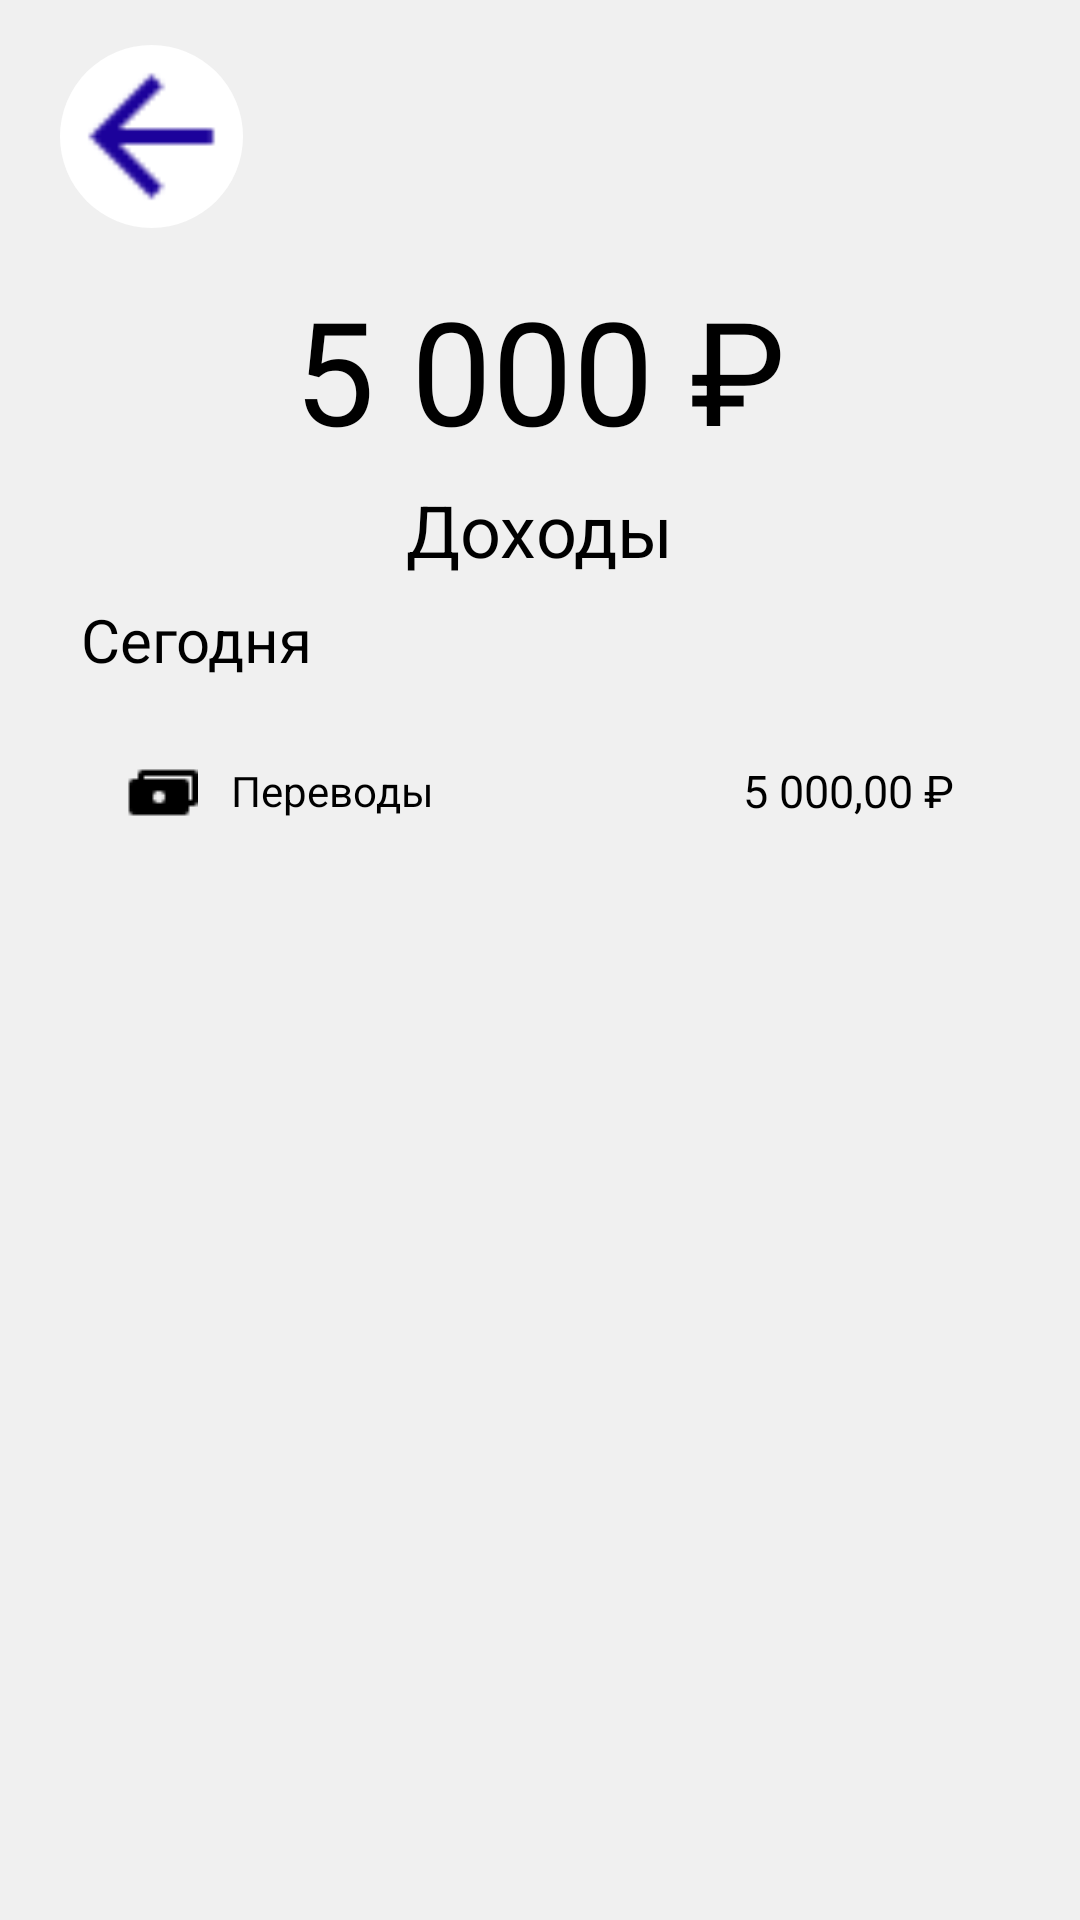

Screen size 1080px x 1920px. Icon name, then its center in pixels as (x=x, y=y):
back: (x=151, y=136)
si money: (x=163, y=792)
